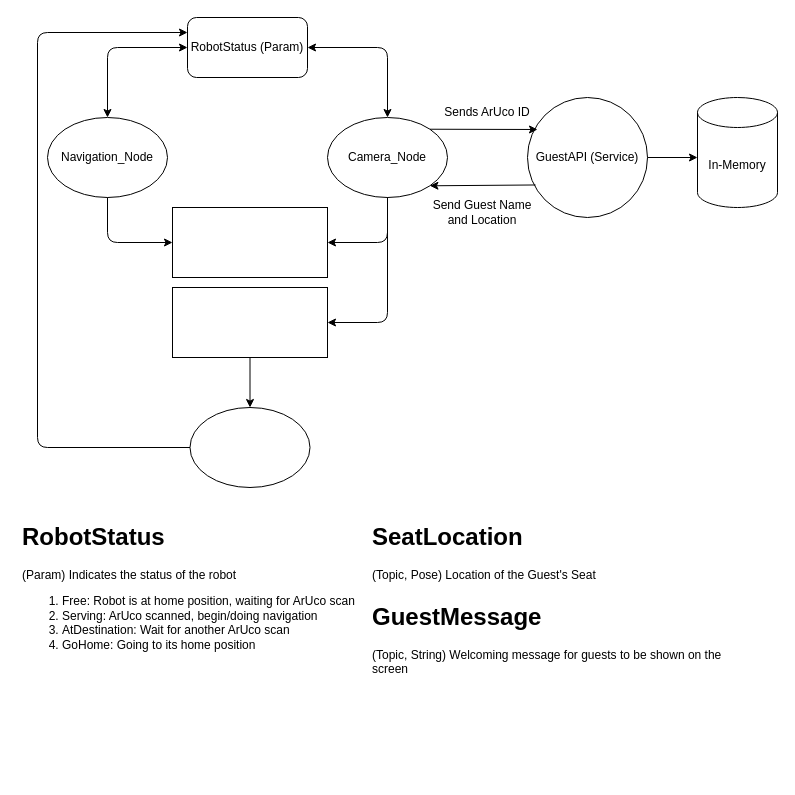
This 795x795 diagram has some shape labels left out. The box of each missing label's shape, as (x1, y1, x2, y2) in pixels:
PlaySound (Topic): (172, 286, 328, 358)
SeatLocation (Topic): (172, 206, 328, 278)
Voice_Node: (189, 406, 310, 488)
